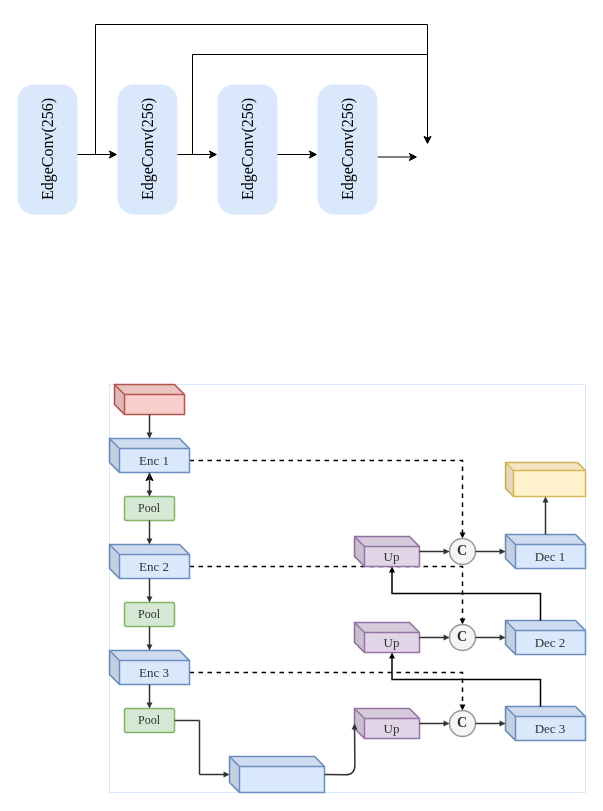
The diagram is 603 pixels wide and 811 high, and some of its shapes have lost their labels. Here are the shapes that lost their labels. From the top down, the centre of each, then its label:
At pixel 149 399: "Input".
At pixel 545 479: "Output".
At pixel 276 774: "Bottleneck".
